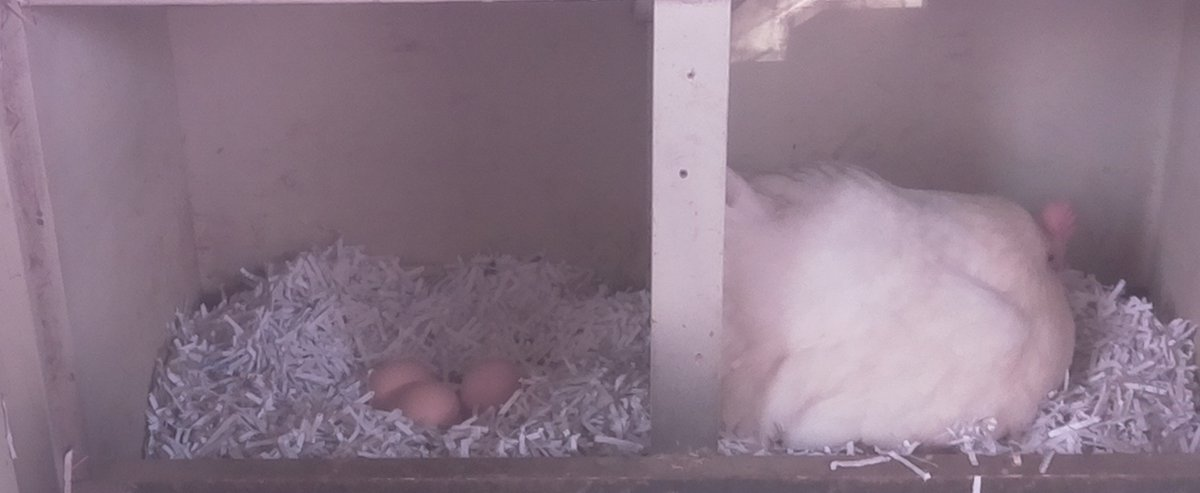egg: (455, 355, 524, 416), (399, 378, 461, 442), (367, 354, 432, 404)
hen: (727, 156, 1094, 450)
